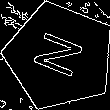N_E: (28, 28, 91, 84)
